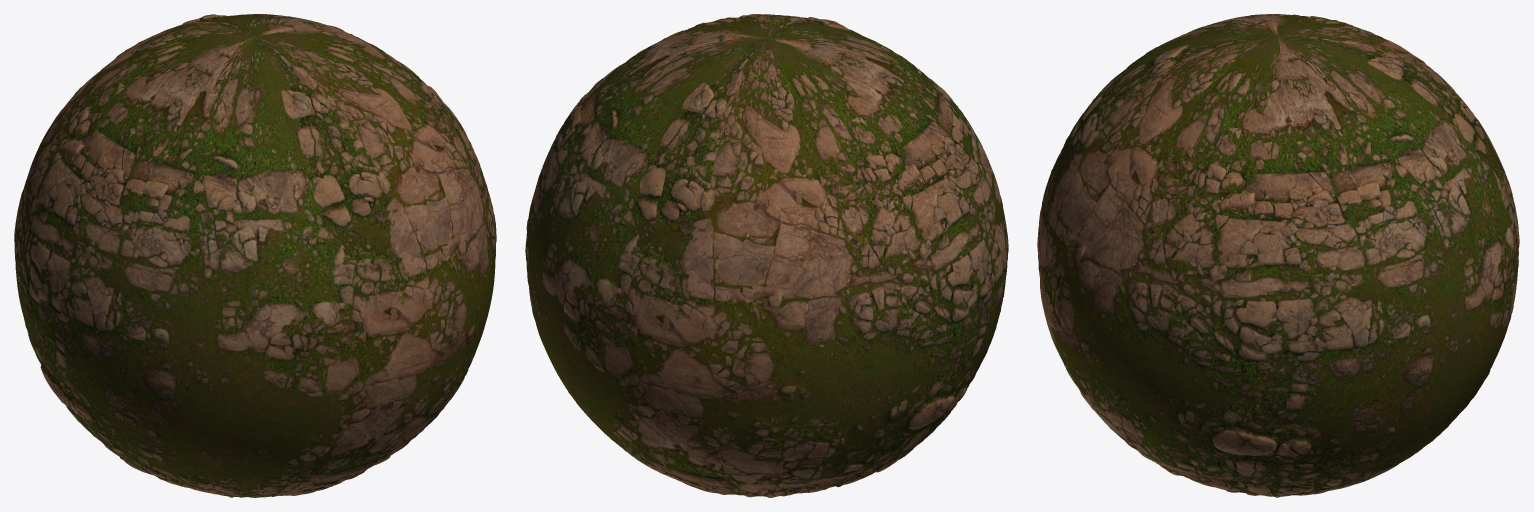
Rendered from rocky_terrain_03_2k.gltf.
The picture shows the model from 3 angles, left to right: view 1: azimuth 30°, elevation 25°; view 2: azimuth 150°, elevation 25°; view 3: azimuth 270°, elevation 25°; orthographic projection.
Parts seen in each view (by area): view 1: sphere_gltf; view 2: sphere_gltf; view 3: sphere_gltf.
Part boxes in pixels (bbox=[...]): sphere_gltf: bbox=[14, 14, 496, 497]; sphere_gltf: bbox=[525, 14, 1008, 497]; sphere_gltf: bbox=[1037, 14, 1519, 497].
Bounding box in the file's own units: 89.79 × 89.82 × 89.48.
